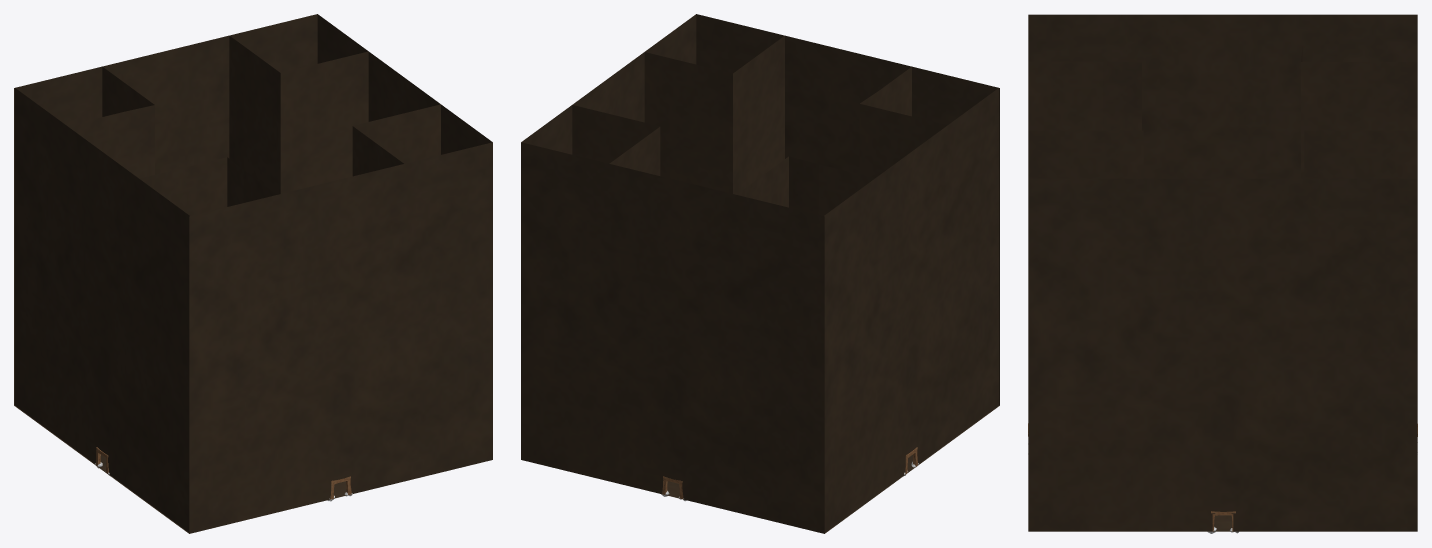
The model's file is Room003.fbx.
3 views of the same model, side by side, from view 1: azimuth 30°, elevation 25°; view 2: azimuth 150°, elevation 25°; view 3: azimuth 270°, elevation 25° (orthographic). The views are drawn at different scales.
Visible parts, largest first — view 1: 4ParedN, 3ParedE, 1ParedSinPuertaW.001, 2ParedS, 1ParedSinPuertaW.002, 1ParedW, 4Pared.001N, 4Pared.002N, 3Pared.002E, 3Pared.001E; view 2: 2ParedS, 3ParedE, 1ParedSinPuertaW.001, 4ParedN, 1ParedSinPuertaW.002, 1ParedW, 2Pared.001S, 2Pared.002S, 3Pared.001E, 3Pared.002E; view 3: 1ParedW, 3ParedE, 1ParedSinPuertaW.002, 1ParedSinPuertaW.001, 1Pared.001W, 1Pared.002W.
Part boxes in pixels (x1,y1,x2,y2): 4ParedN: (189, 142, 492, 517); 3ParedE: (15, 88, 189, 516); 1ParedSinPuertaW.001: (229, 35, 440, 194); 2ParedS: (14, 14, 317, 389); 1ParedSinPuertaW.002: (67, 67, 276, 215); 1ParedW: (317, 14, 492, 154); 4Pared.001N: (189, 483, 331, 533); 4Pared.002N: (350, 444, 492, 494); 3Pared.002E: (108, 458, 189, 532); 3Pared.001E: (15, 390, 96, 463); 2ParedS: (521, 142, 824, 517); 3ParedE: (824, 88, 998, 516); 1ParedSinPuertaW.001: (572, 36, 784, 194); 4ParedN: (696, 14, 999, 389); 1ParedSinPuertaW.002: (736, 67, 947, 215); 1ParedW: (521, 14, 696, 154); 2Pared.001S: (682, 483, 824, 533); 2Pared.002S: (521, 444, 664, 494); 3Pared.001E: (824, 458, 905, 532); 3Pared.002E: (917, 390, 998, 463); 1ParedW: (1028, 178, 1417, 513); 3ParedE: (1028, 14, 1417, 178); 1ParedSinPuertaW.002: (1028, 46, 1417, 178); 1ParedSinPuertaW.001: (1028, 130, 1417, 178); 1Pared.001W: (1233, 514, 1417, 531); 1Pared.002W: (1028, 514, 1212, 531).
Bounding box in the file's own units: 9600 × 9693 × 9608.
